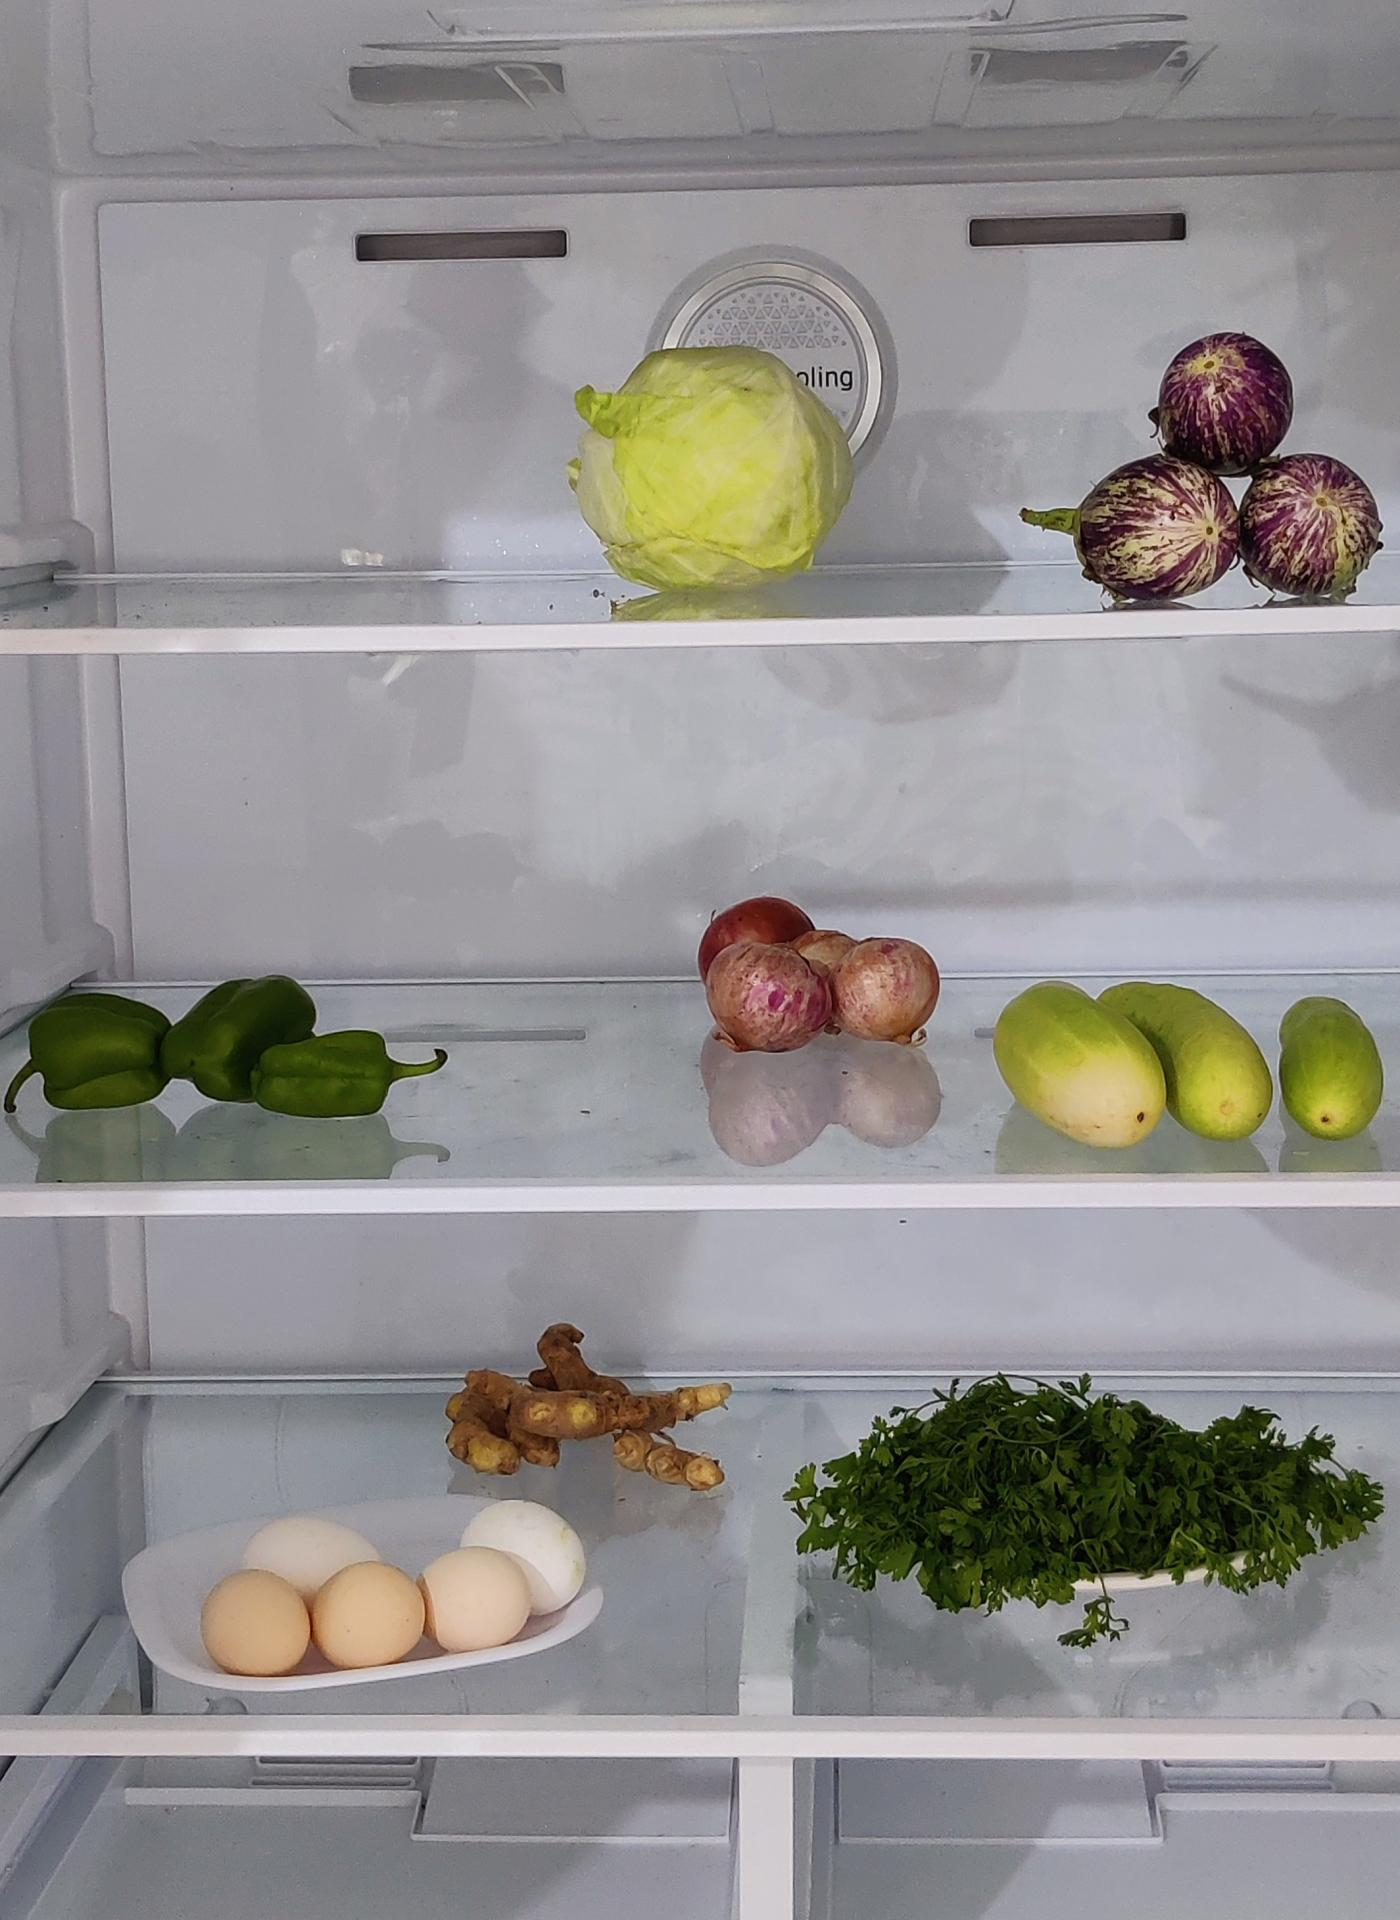brinjal: (1060, 343, 1376, 593)
cabbage: (573, 341, 857, 587)
capsicum: (6, 973, 432, 1127)
coriander: (795, 1379, 1400, 1608)
cucumber: (1000, 994, 1387, 1167)
egg: (201, 1515, 428, 1677)
ginger: (444, 1321, 726, 1473)
onion: (695, 897, 944, 1058)
